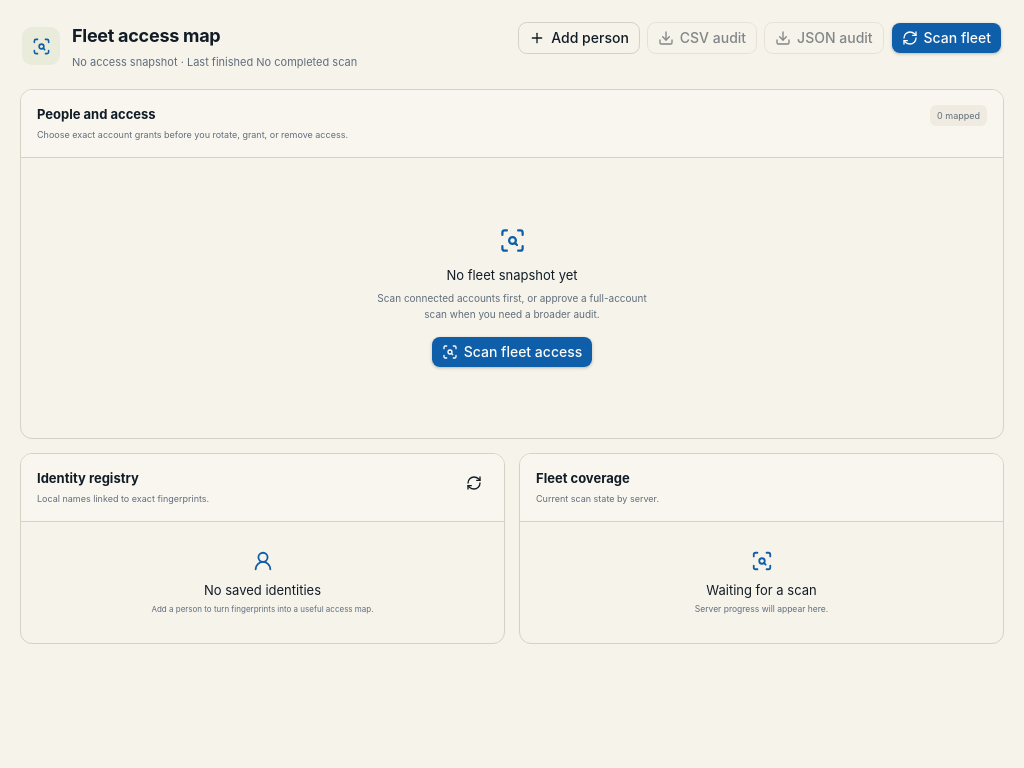
Test: Empirical Challenger: Tab Modals Accessibility & Focus Verification › AccessTab Modal Dialogs › opens Access Identity modal with [data-access-first] autofocus, aria attributes and Escape dismissal
Click the button "Add person": (579, 38) [518,22,640,54]
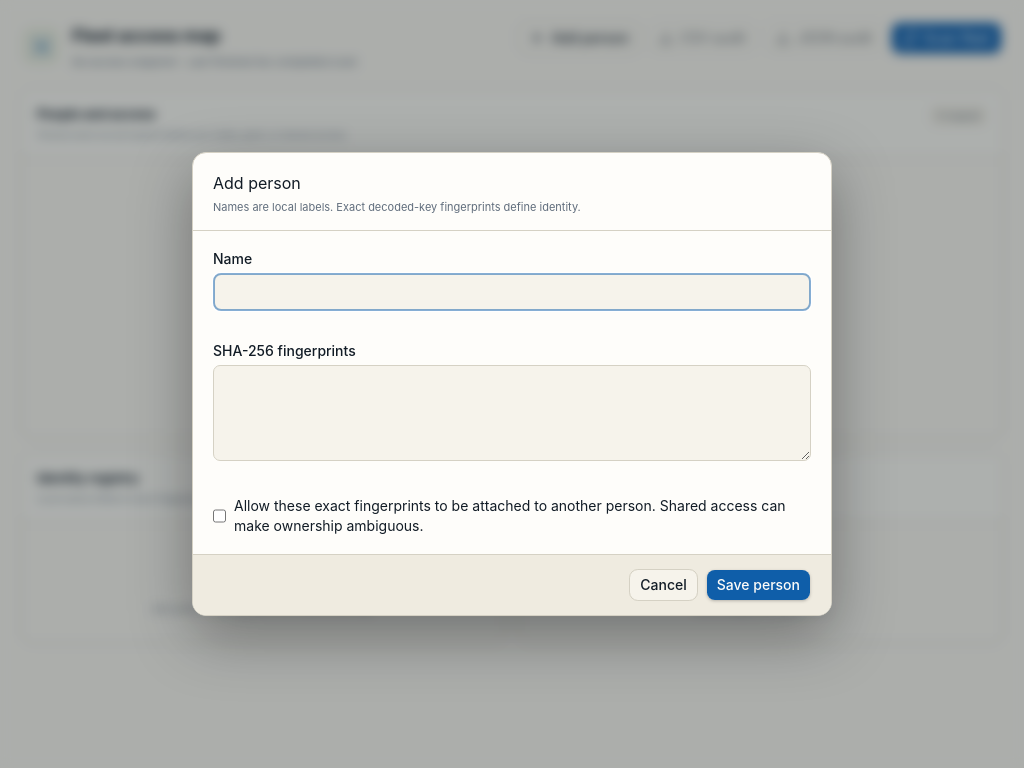
Now the dialog is shown, box [192,152,832,616]
// Verify Escape closes the dialog
Press Escape
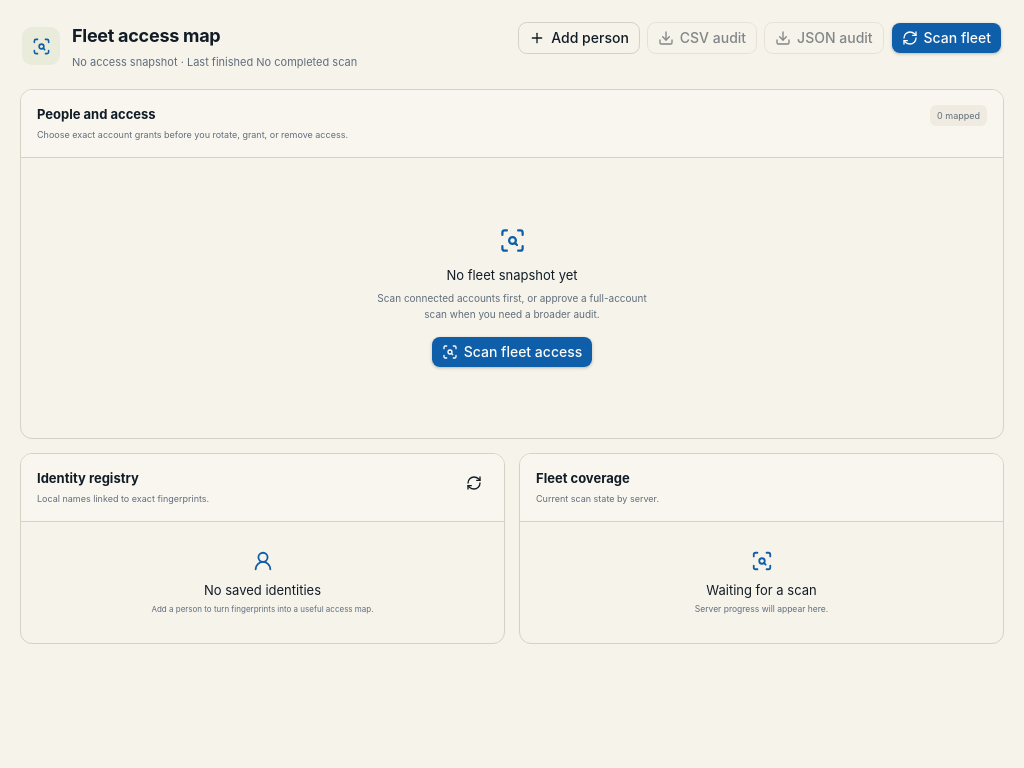
Now the dialog is gone
